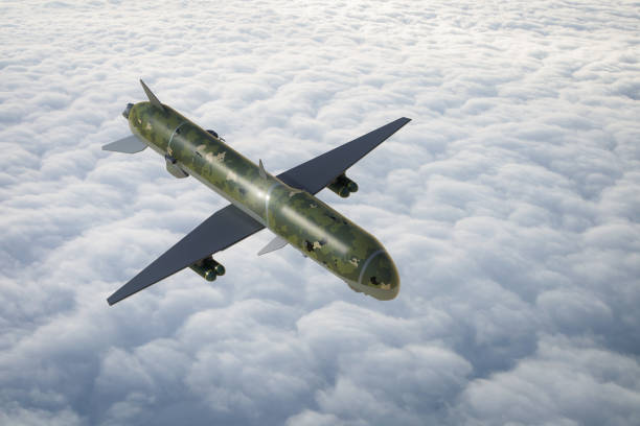military drone: (101, 77, 411, 306)
